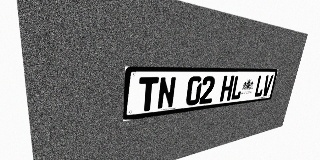0: (185, 76, 203, 106)
2: (199, 76, 216, 104)
H: (219, 76, 234, 102)
L: (230, 75, 244, 100), (253, 75, 266, 97)
N: (157, 77, 177, 110)
T: (137, 77, 159, 112)
V: (261, 75, 273, 96)
